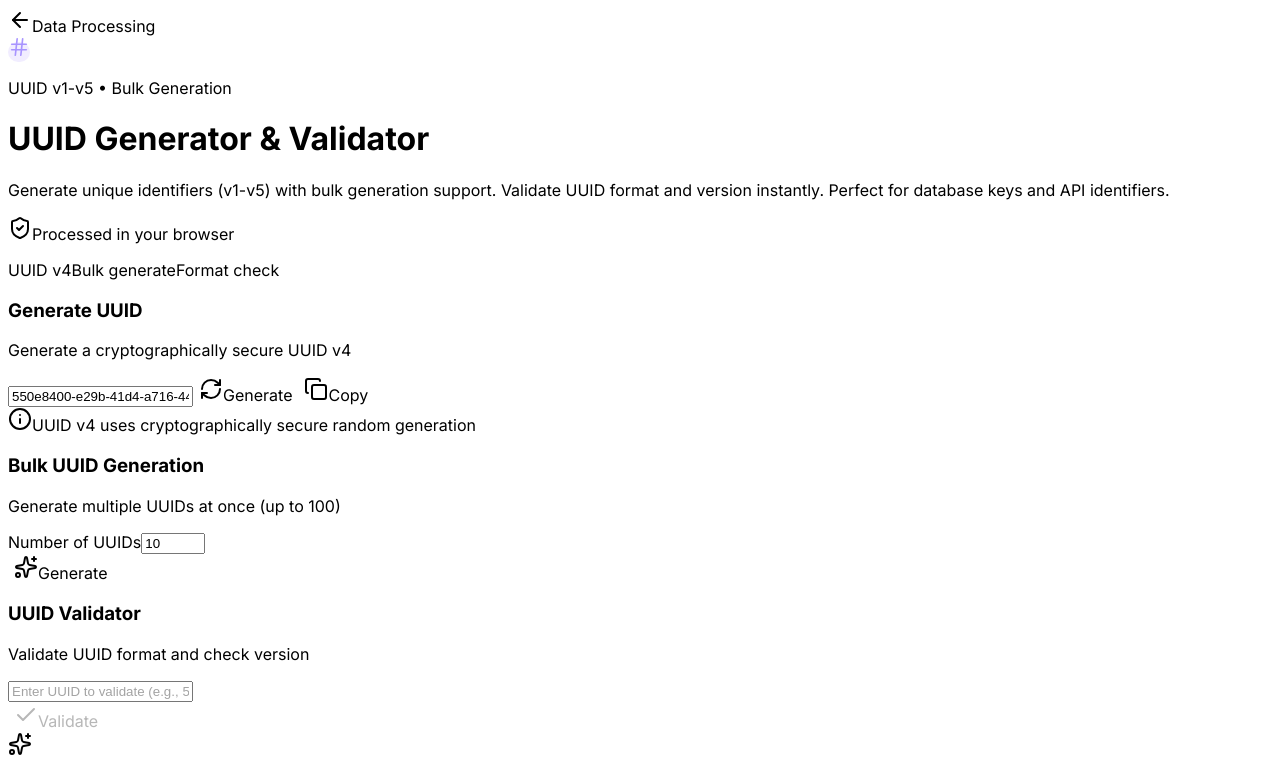
Test: UUID Generator Page › Bulk UUID Generation › generates multiple UUIDs when Generate button is clicked
Replace the text in the number field labelled "Number of UUIDs" with "5": [173, 543] box [141, 533, 205, 554]
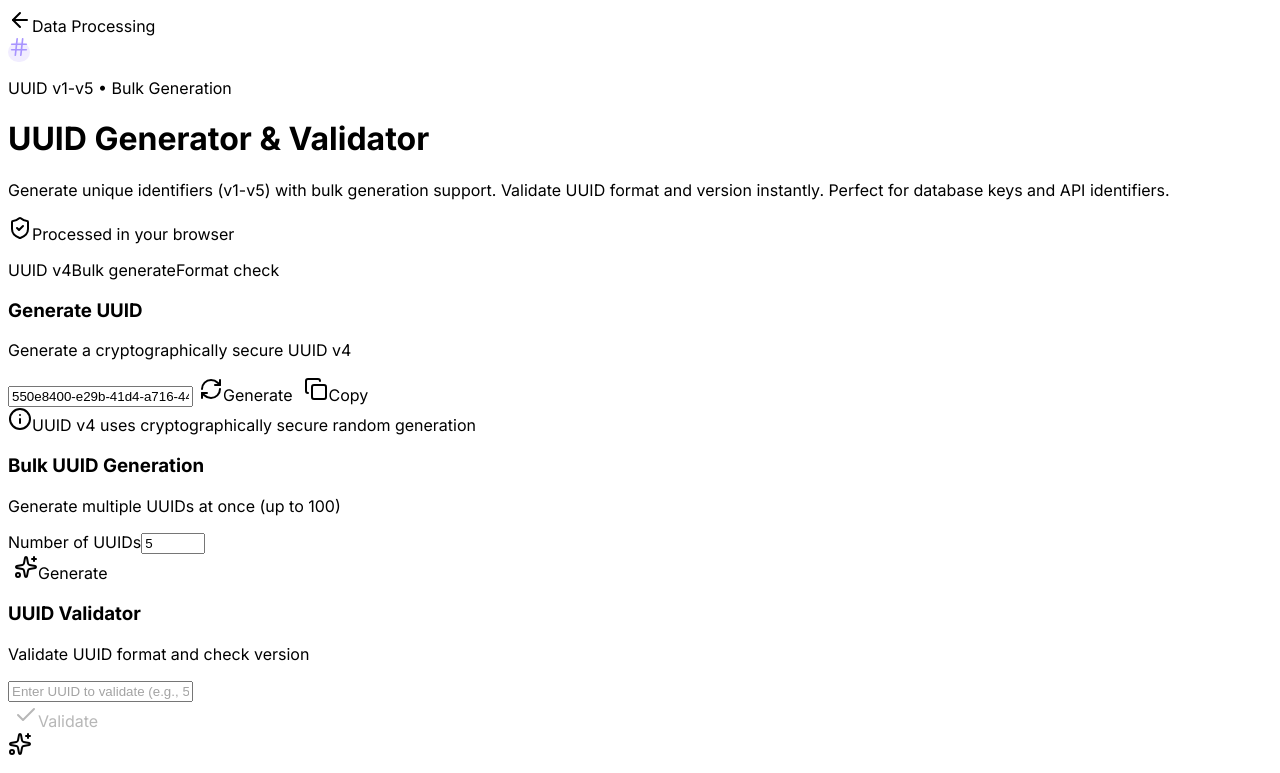
Click the button "Generate" below "Number of UUIDs": [61, 569] box [8, 554, 114, 584]
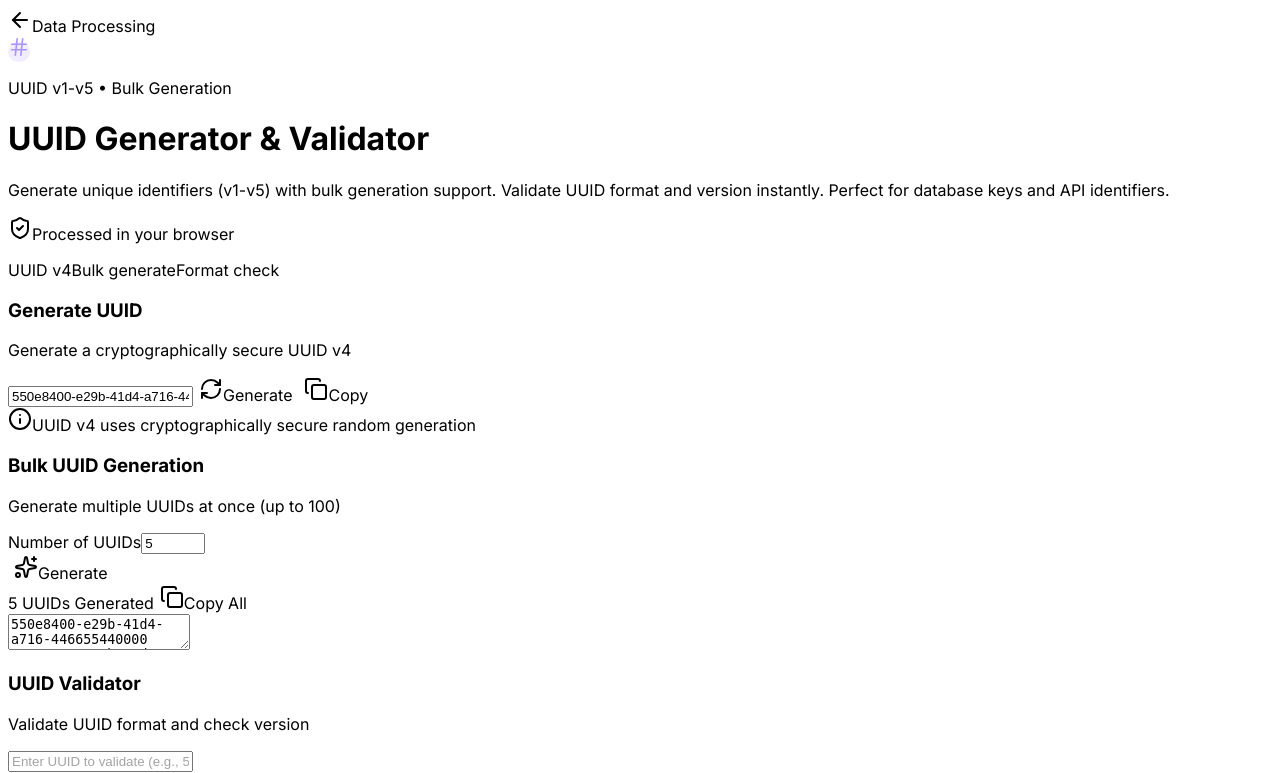
Now the text "5 UUIDs Generated" is shown, box [8, 593, 154, 613]
